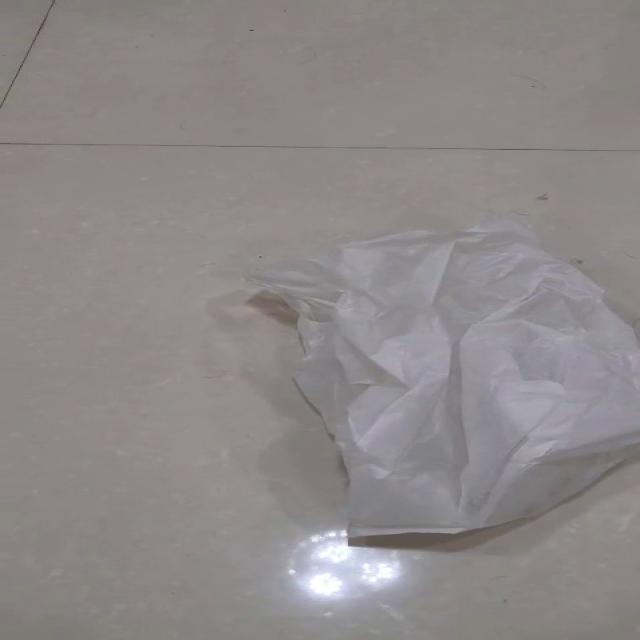plastic: (241, 217, 639, 540)
